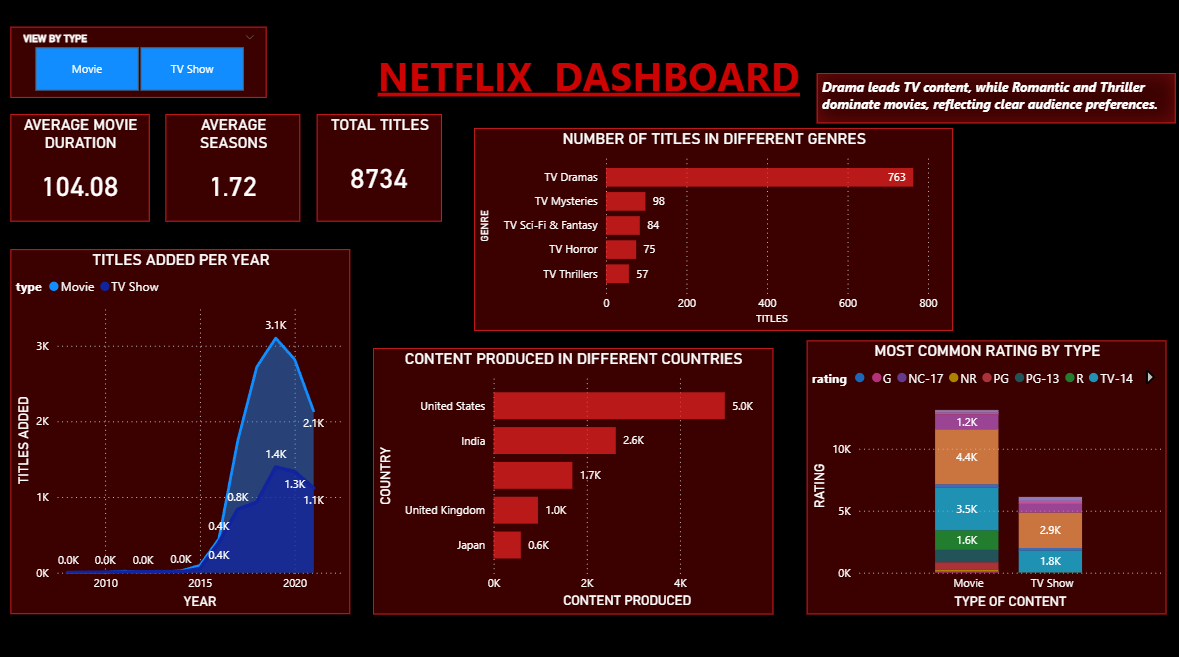

The page's visual inventory and layout, read from the dashboard file:
{"tool":"powerbi","page":{"name":"level 2","canvas":[1280,720],"ordinal":1},"visuals":[{"type":"pieChart","fields":{"Category":["netflix_titles csv.type"],"Y":["CountNonNull(netflix_titles csv.show_id)"]},"box":[9.9,0,352.1,208.5],"z":0},{"type":"areaChart","fields":{"Category":["netflix_titles csv.date_added"],"Y":["CountNonNull(netflix_titles csv.show_id)"]},"box":[0,438,833.8,281.7],"z":1},{"type":"clusteredBarChart","fields":{"Y":["CountNonNull(netflix_titles csv.show_id)"],"Category":["netflix_titles csv.listed_in"]},"box":[188.7,233.8,685.9,204.2],"z":2},{"type":"card","fields":{"Values":["Avg(netflix_titles csv.Custom)"]},"box":[846.5,380.3,301.4,235.2],"z":3},{"type":"card","fields":{"Values":["Avg(netflix_titles csv.Custom.1)"]},"box":[760.6,19.7,473.2,176.1],"z":4},{"type":"slicer","fields":{"Values":["netflix_titles csv.type"]},"box":[373.2,0,157.7,98.6],"z":5},{"type":"columnChart","fields":{"Category":["netflix_titles csv.type"],"Y":["CountNonNull(netflix_titles csv.show_id)"],"Series":["netflix_titles csv.rating"]},"box":[833.8,0,446.5,380.3],"z":6}]}

Visuals, with their boxes in screenshot pixels (x1, y1, x2, y2), scaled from the page's 1280x720 canvas onto the 1179x657 screenshot:
pieChart - netflix_titles csv.type x CountNonNull(netflix_titles csv.show_id): region(9, 0, 333, 190)
areaChart - netflix_titles csv.date_added x CountNonNull(netflix_titles csv.show_id): region(0, 400, 768, 656)
clusteredBarChart - CountNonNull(netflix_titles csv.show_id) x netflix_titles csv.listed_in: region(174, 213, 806, 400)
card - Avg(netflix_titles csv.Custom): region(780, 347, 1057, 562)
card - Avg(netflix_titles csv.Custom.1): region(701, 18, 1136, 179)
slicer - netflix_titles csv.type: region(344, 0, 489, 90)
columnChart - netflix_titles csv.type x CountNonNull(netflix_titles csv.show_id): region(768, 0, 1178, 347)
